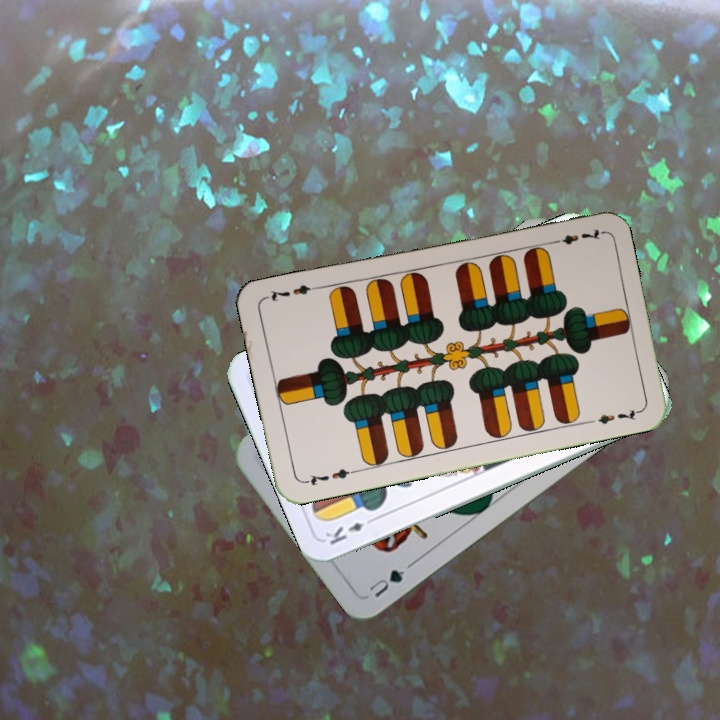E7: (299, 464, 358, 488), (545, 224, 604, 248)
EK: (321, 513, 379, 548)
GU: (365, 565, 408, 601)
